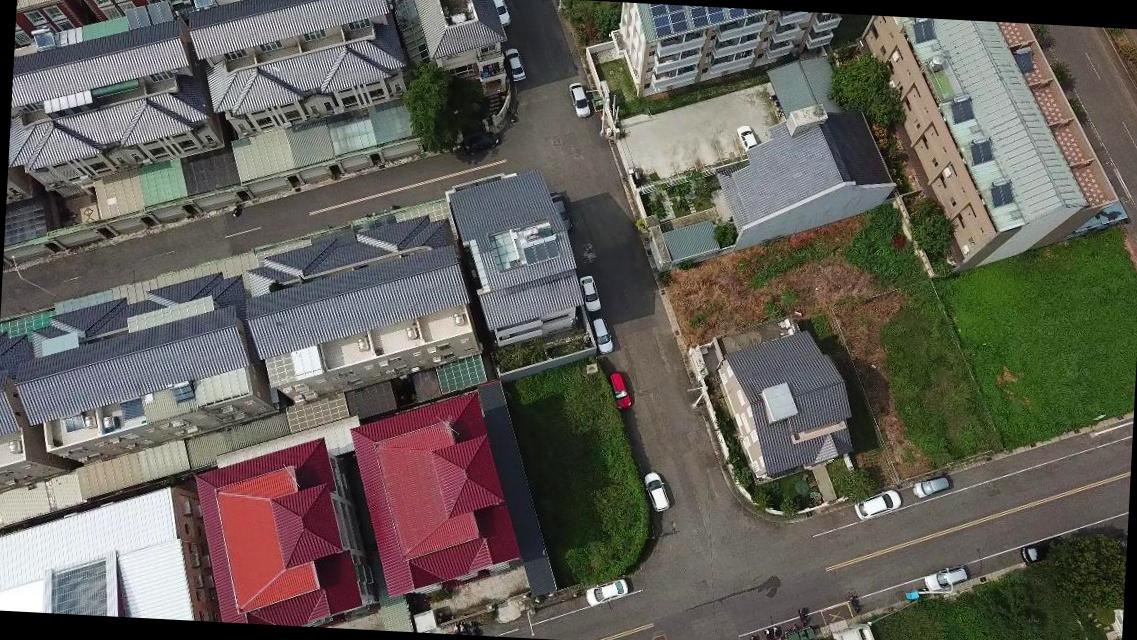vehicle: (852, 488, 902, 522), (1018, 533, 1066, 567), (923, 563, 970, 596), (583, 576, 628, 608), (640, 471, 671, 514), (910, 473, 952, 501), (578, 272, 604, 316), (606, 370, 634, 410), (566, 81, 592, 118), (591, 318, 614, 354), (504, 46, 526, 82), (736, 125, 759, 154), (490, 0, 513, 26)
